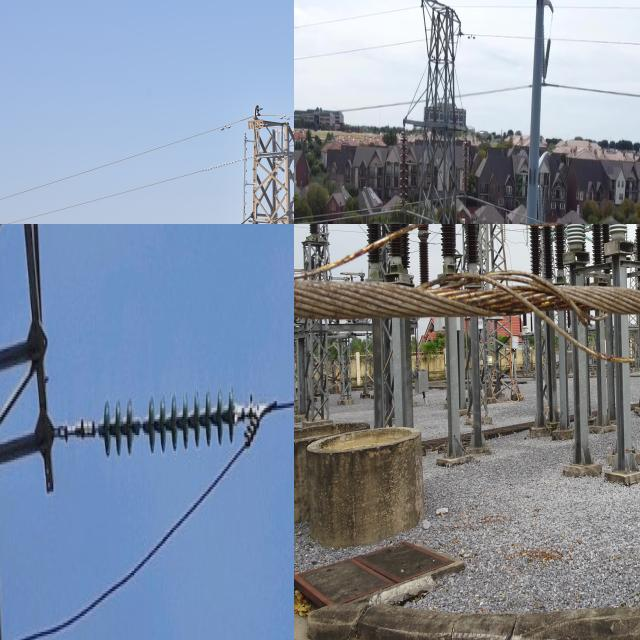杆塔: (0, 224, 64, 640), (145, 108, 294, 224), (400, 0, 476, 224)
正常电缆: (91, 377, 245, 460), (480, 193, 582, 224), (553, 76, 640, 105), (559, 34, 640, 52), (478, 79, 531, 99)
正常绝缘子: (395, 123, 411, 215), (459, 125, 472, 202)
电缆破损: (298, 224, 640, 410)
绝缘子破损: (135, 411, 146, 438)
